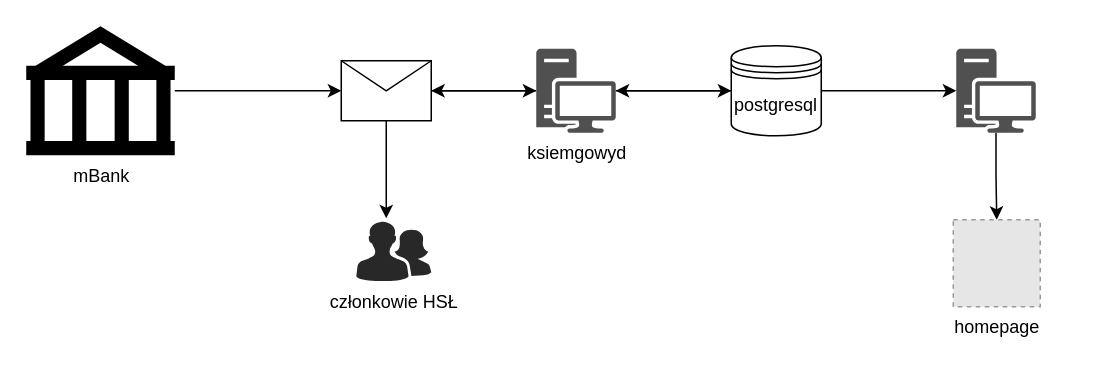
Some shapes in this 1098 by 386 pixel diagram are drawn without their labels. Grey dashed boxes stand in for pictures. The box of each missing label's shape, as (x1, y1, x2, y2) in pixels:
Gmail: (340, 59, 431, 121)
homepage-updater: (956, 48, 1035, 132)
